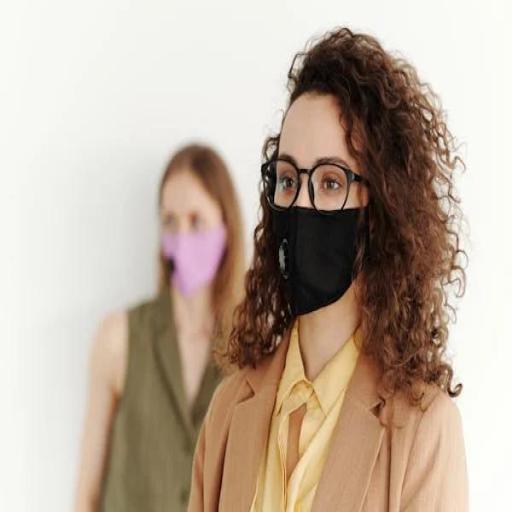mask: (264, 68, 392, 338)
